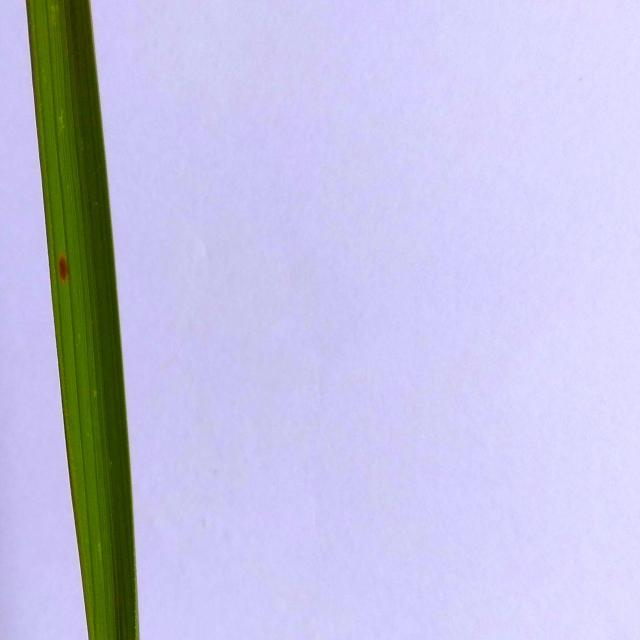brownspots: (52, 247, 72, 299)
